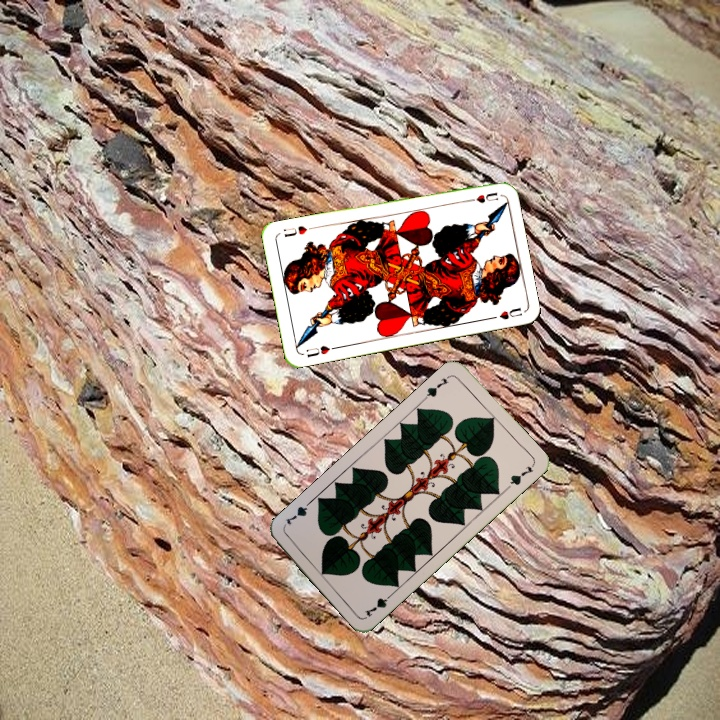G7: (360, 588, 396, 619), (420, 371, 454, 402)
HU: (302, 341, 339, 360), (462, 188, 501, 205)
